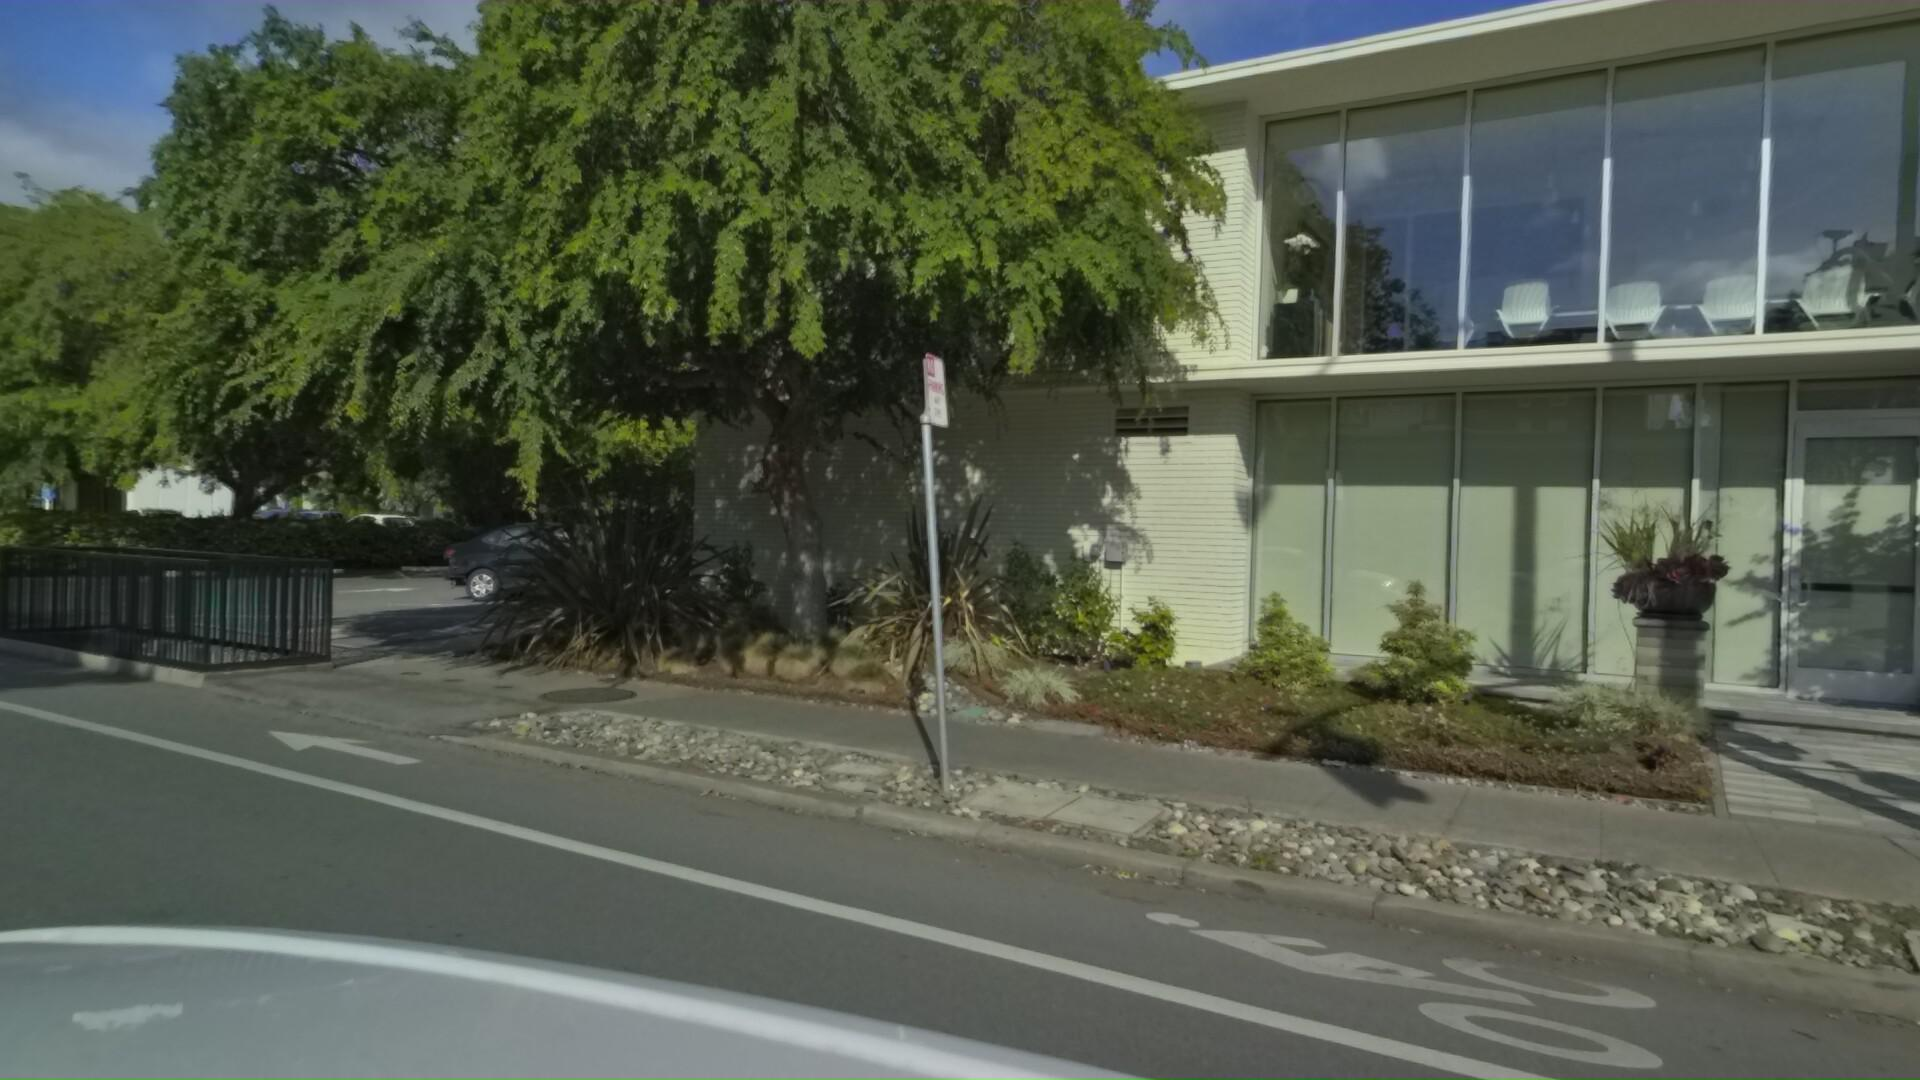car: (425, 505, 707, 607)
